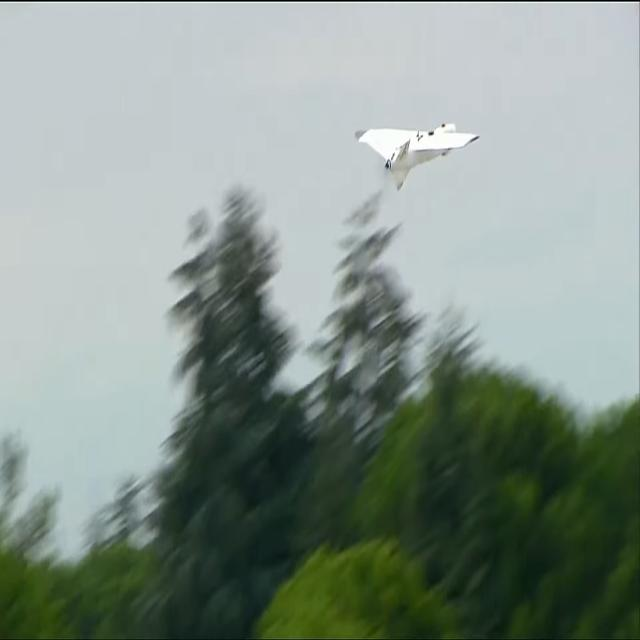iha: (386, 151, 449, 157)
